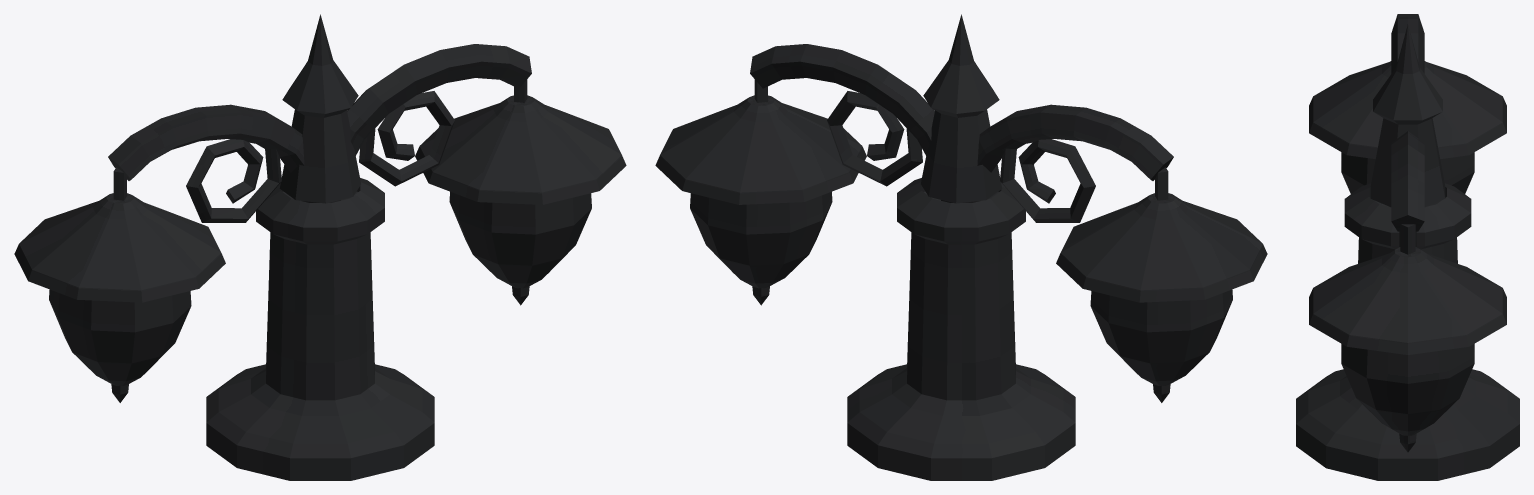
File: decolight_lavinedouble_inv.obj
3 views of the same model, side by side, from view 1: azimuth 30°, elevation 25°; view 2: azimuth 150°, elevation 25°; view 3: azimuth 270°, elevation 25° (orthographic). The views are drawn at different scales.
Visible parts, largest first — view 1: decolight_lavinedouble_inv; view 2: decolight_lavinedouble_inv; view 3: decolight_lavinedouble_inv.
Boxes of the visible parts, left/top/right/bottom form: decolight_lavinedouble_inv: left=14, top=14, right=626, bottom=480; decolight_lavinedouble_inv: left=655, top=14, right=1267, bottom=480; decolight_lavinedouble_inv: left=1296, top=14, right=1519, bottom=480.
Bounding box in the file's own units: 0.975 × 0.6671 × 0.3297.
